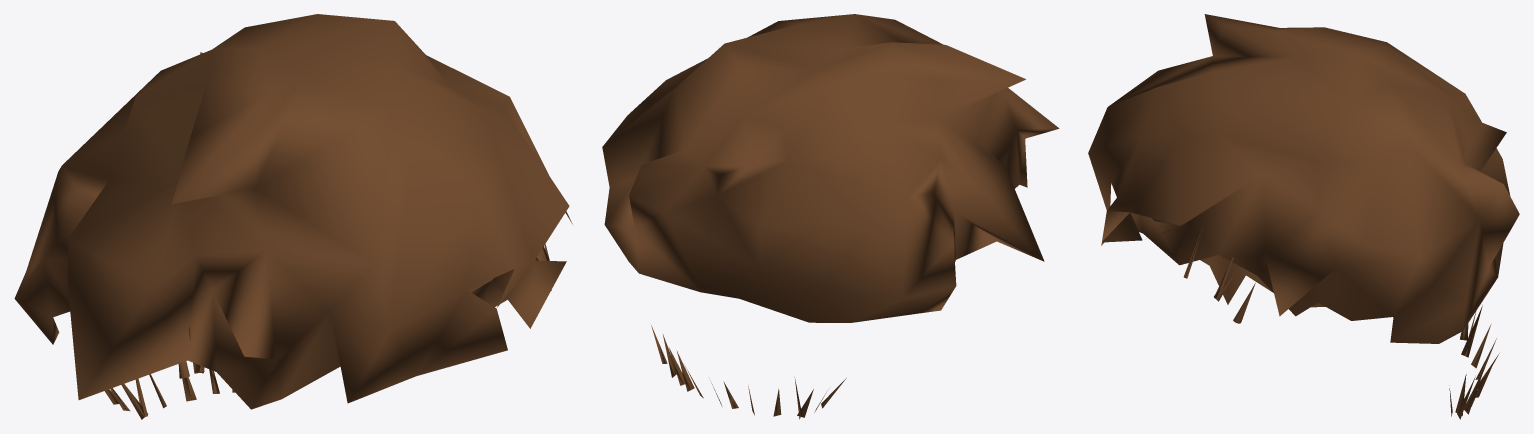
Rendered from short-fringe.glb.
The picture shows the model from 3 angles, left to right: view 1: azimuth 30°, elevation 25°; view 2: azimuth 150°, elevation 25°; view 3: azimuth 270°, elevation 25°; orthographic projection. The views are drawn at different scales.
Parts seen in each view (by area): view 1: Hair, HairPulledRootStrands; view 2: Hair, HairPulledRootStrands; view 3: Hair, HairPulledRootStrands.
Boxes of the visible parts, box(x1,y1,x2,y2) form: Hair: box(14, 14, 572, 409); HairPulledRootStrands: box(104, 244, 551, 419); Hair: box(602, 14, 1059, 322); HairPulledRootStrands: box(651, 325, 846, 419); Hair: box(1088, 14, 1519, 343); HairPulledRootStrands: box(1183, 226, 1499, 419).
Bounding box in the file's own units: 0.4796 × 0.3792 × 0.4494.
